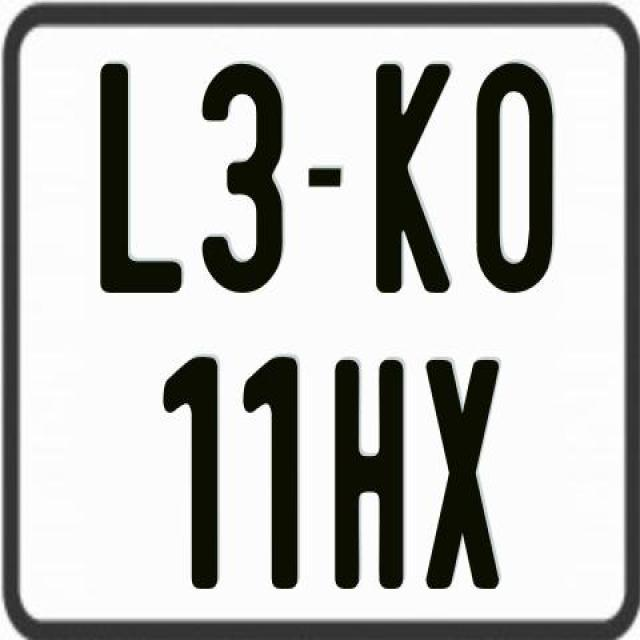0: (472, 61, 551, 293)
1: (160, 355, 219, 587), (238, 357, 294, 596)
3: (200, 61, 282, 292)
H: (335, 358, 408, 592)
K: (373, 61, 455, 300)
L: (98, 64, 186, 298)
X: (424, 358, 496, 589)
